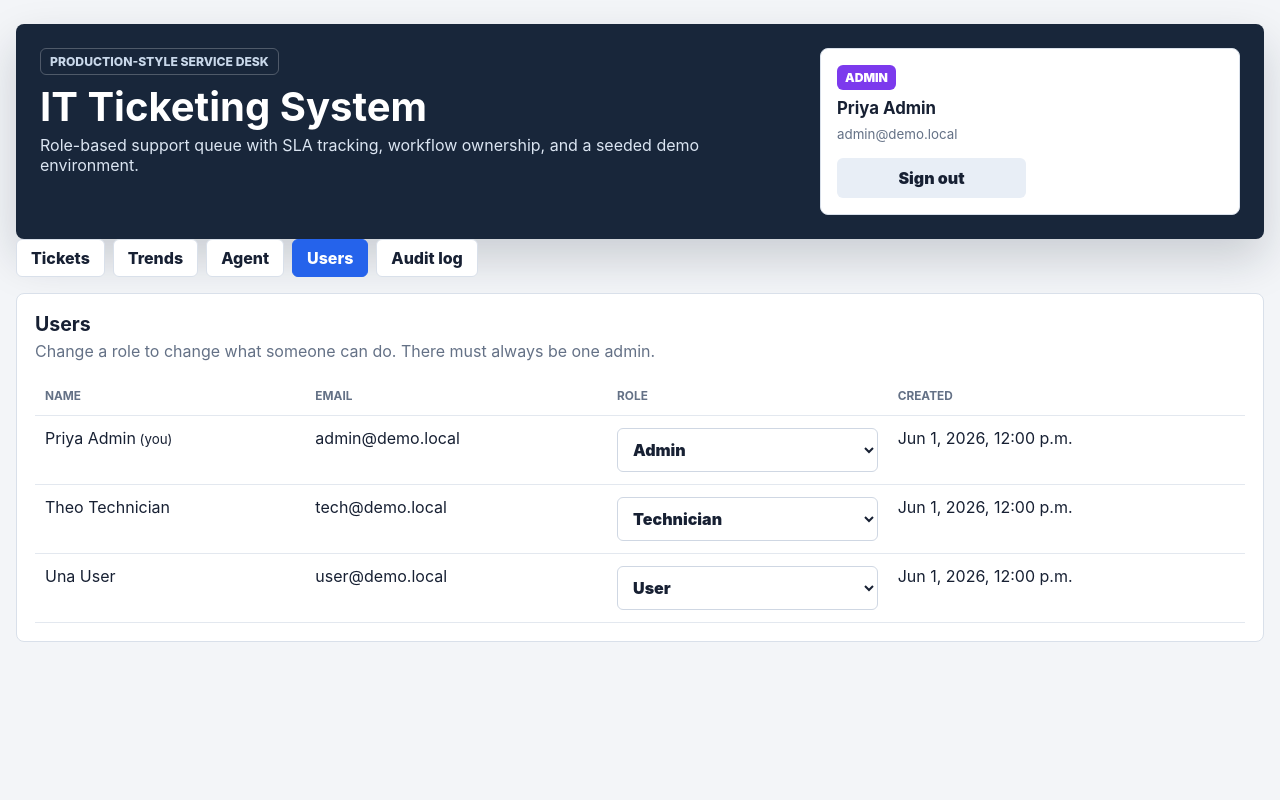
Test: admin: users › explains a refusal, such as demoting the last admin, with its reference
Select "User" in the dropdown named "Role for admin@demo.local": coordinates (747, 450) [617,428,878,472]
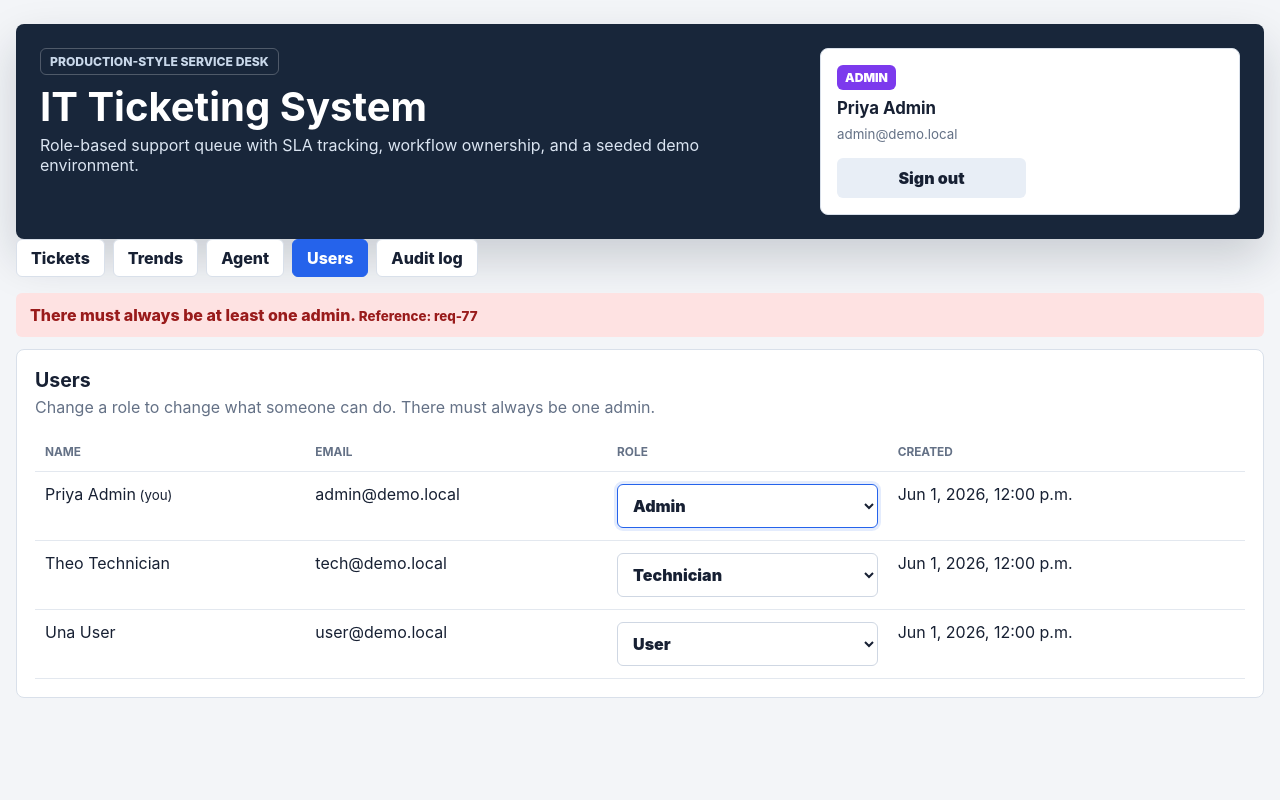
Result: the text "There must always be at least one admin." is shown at [30,305,356,325]
Result: the text "Reference: req-77" is shown at [356,308,478,324]
